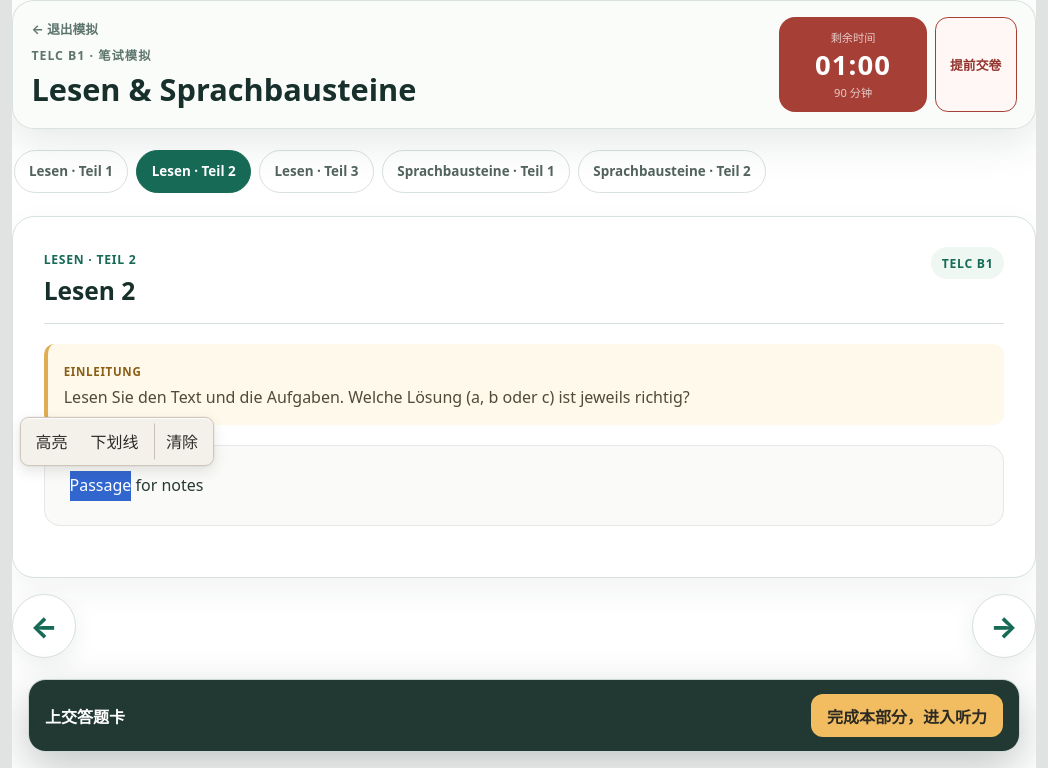
Scenario: mock exam annotations › persists a real selection in the attempt scope across part switches
What coordinates should you click on to do the following:
click the button "高亮"
I would click on:
 (52, 441)
Its box is [26,423,77,460].
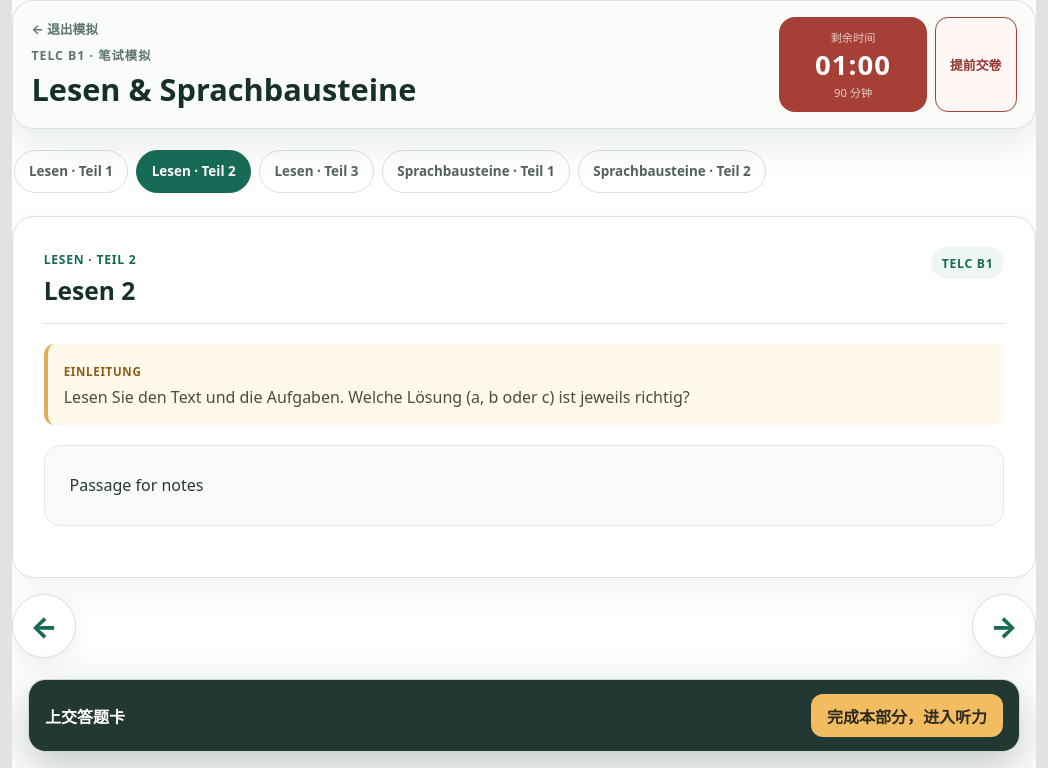
What coordinates should you click on to do the following:
click the button "Sprachbausteine · Teil 1"
I would click on:
 (476, 171)
Its box is [382,150,570,193].
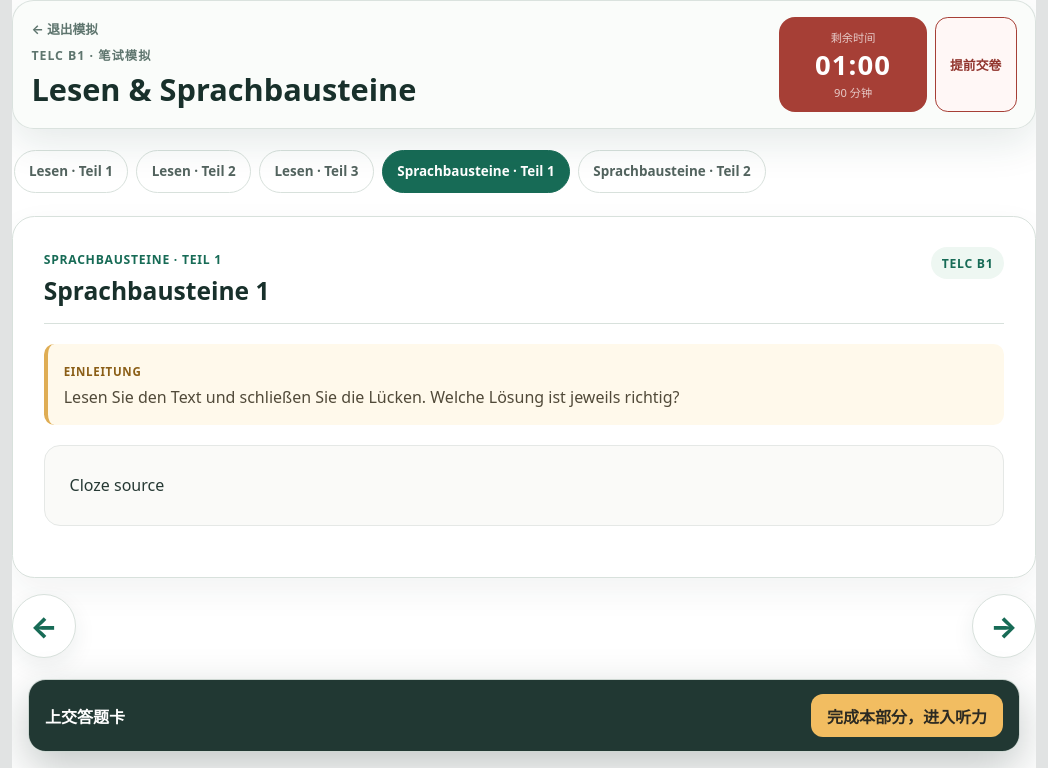
What coordinates should you click on to do the following:
click the button "Lesen · Teil 2"
I would click on:
 (194, 171)
Its box is [136,150,251,193].
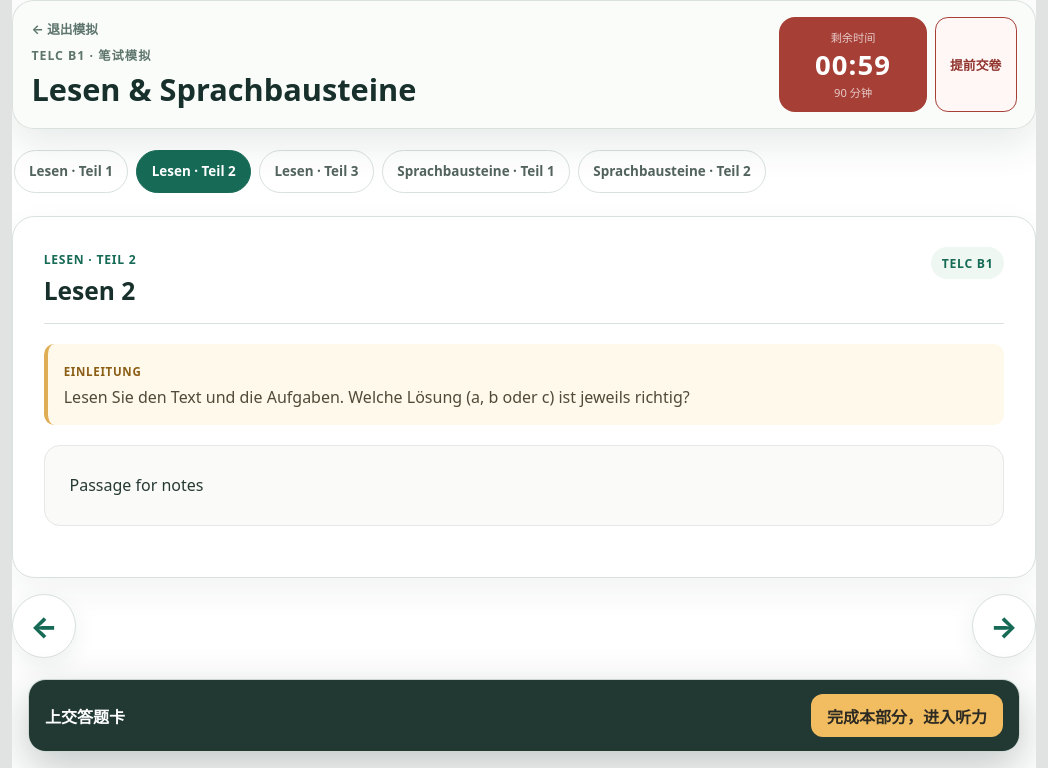
Expected: the element showing "Passage for notes" is shown, [44,445,1004,526]
